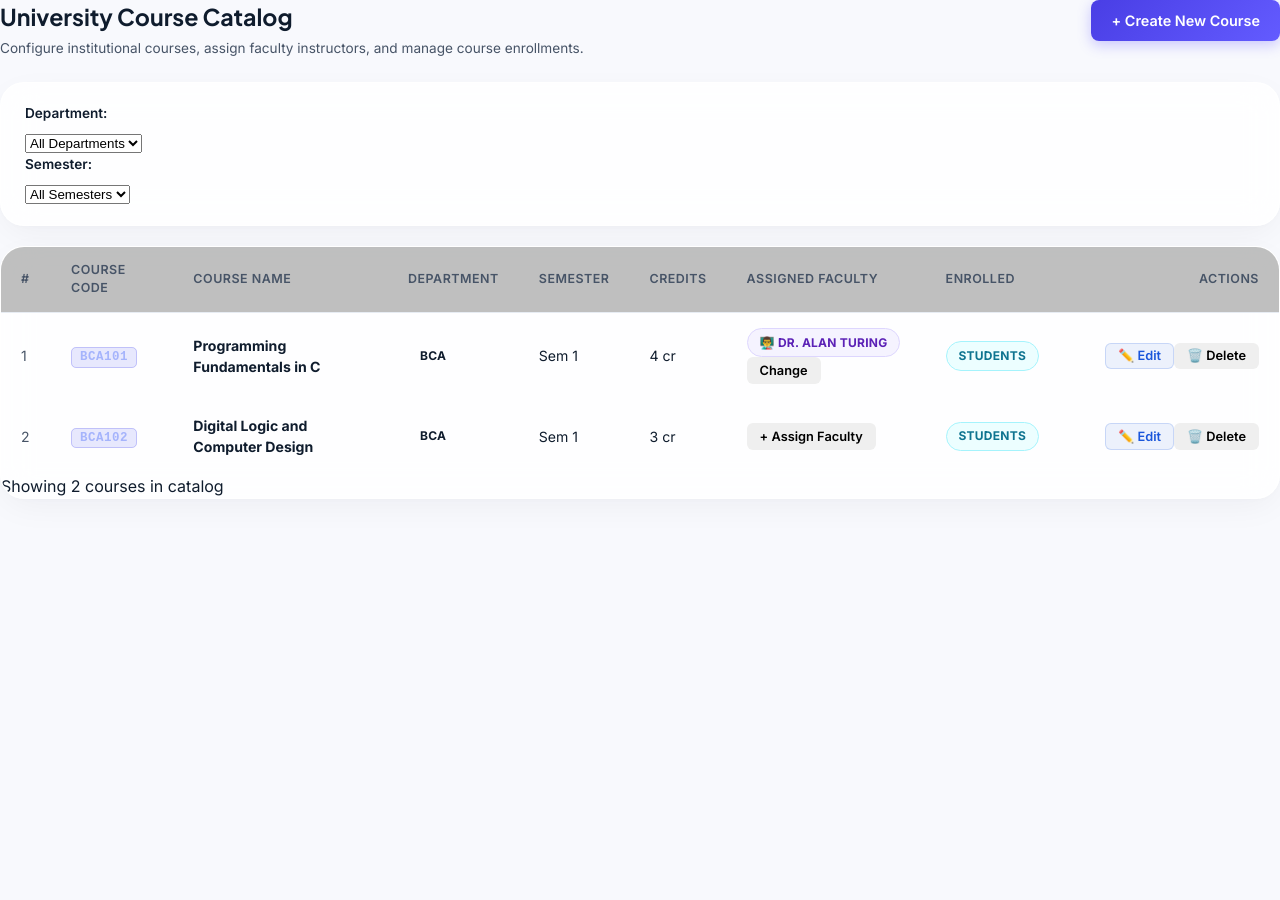
Admin Portal — Course Catalog Management Tests › opens Assign Faculty modal, selects instructor, submits assignment and refreshes
expect the text "BCA102" is shown: met, box [71,428,137,448]
// Click Assign Faculty button for BCA102
Click the button "+ Assign Faculty". click: (811, 436)
box: [747,423,876,450]
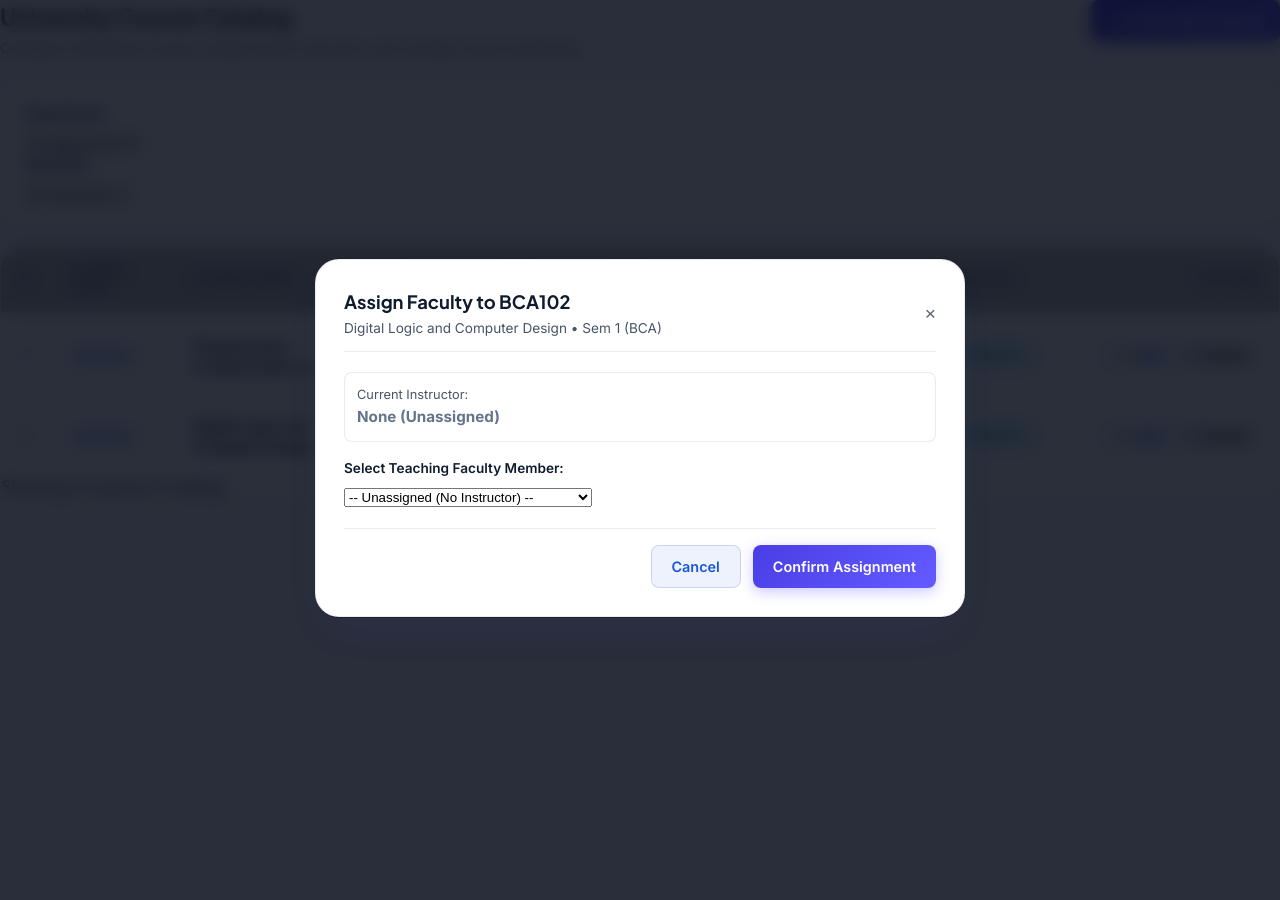
expect the heading "Assign Faculty to BCA102" is shown: met, box [344,290,570,312]
expect the text "None (Unassigned)" is shown: met, box [357,407,500,426]
// Select Dr. Grace Hopper
Select "Dr. Grace Hopper (BCA • ID: FAC002)" in the dropdown labelled "Select Teaching Faculty Member:". click: (468, 498)
box: [344,488,592,508]
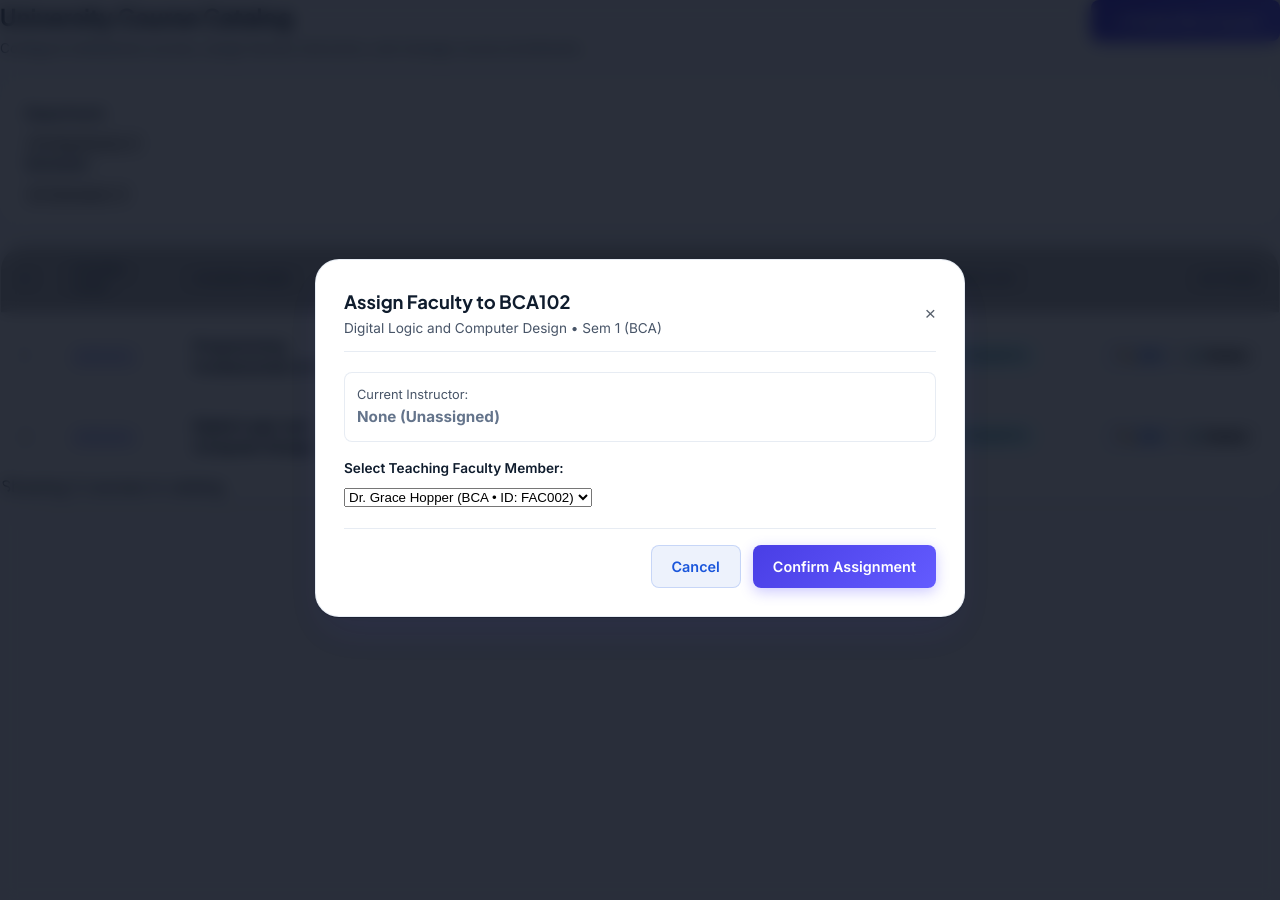
Click the button "Confirm Assignment". click: (844, 567)
box: [753,546,936,588]
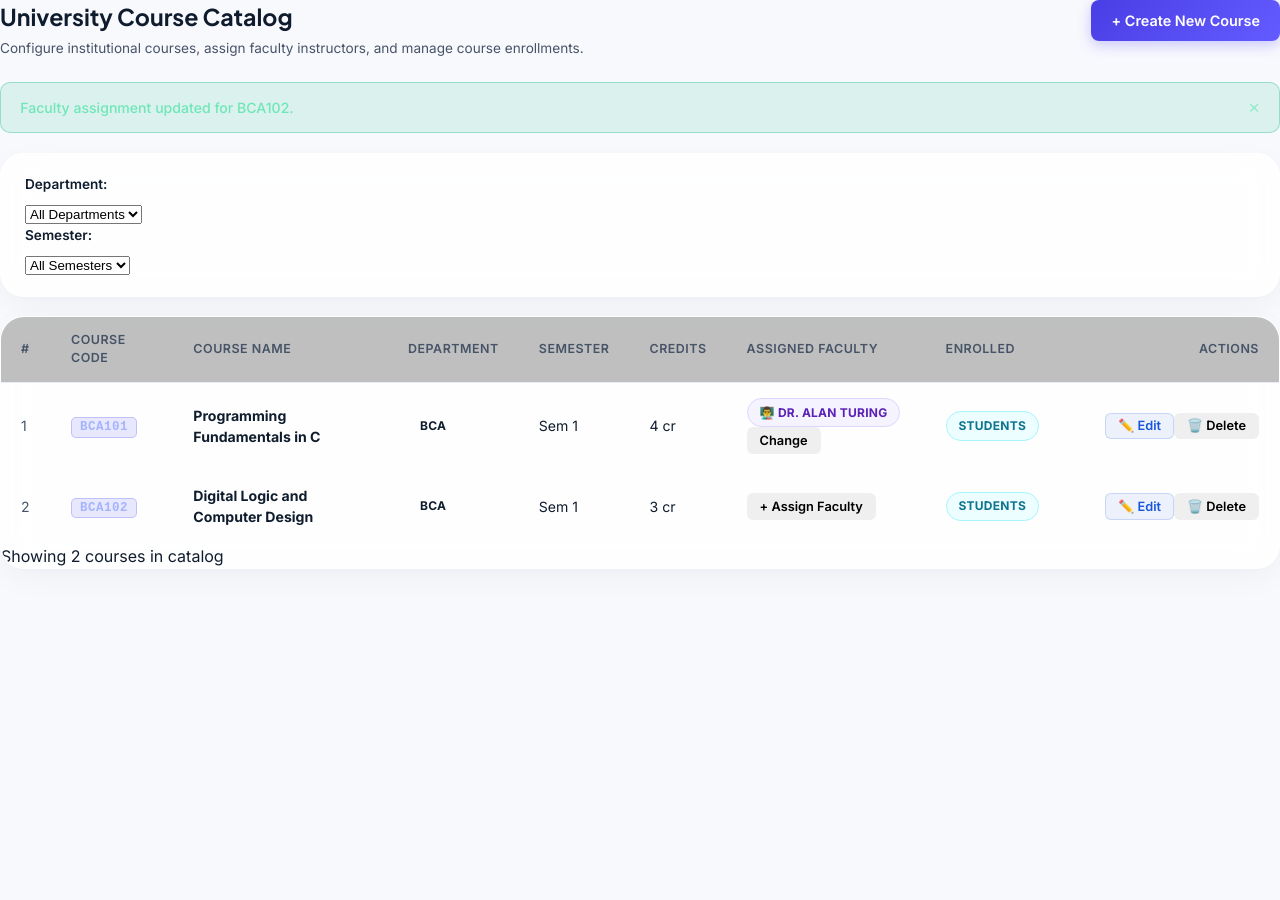
expect the text "Faculty assignment updated for BCA102." is shown: met, box [20,97,294,118]
